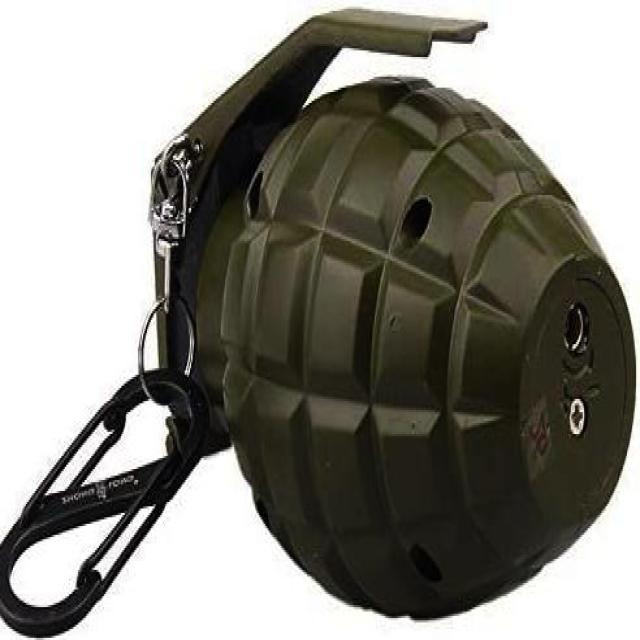grenade: (149, 8, 638, 622)
